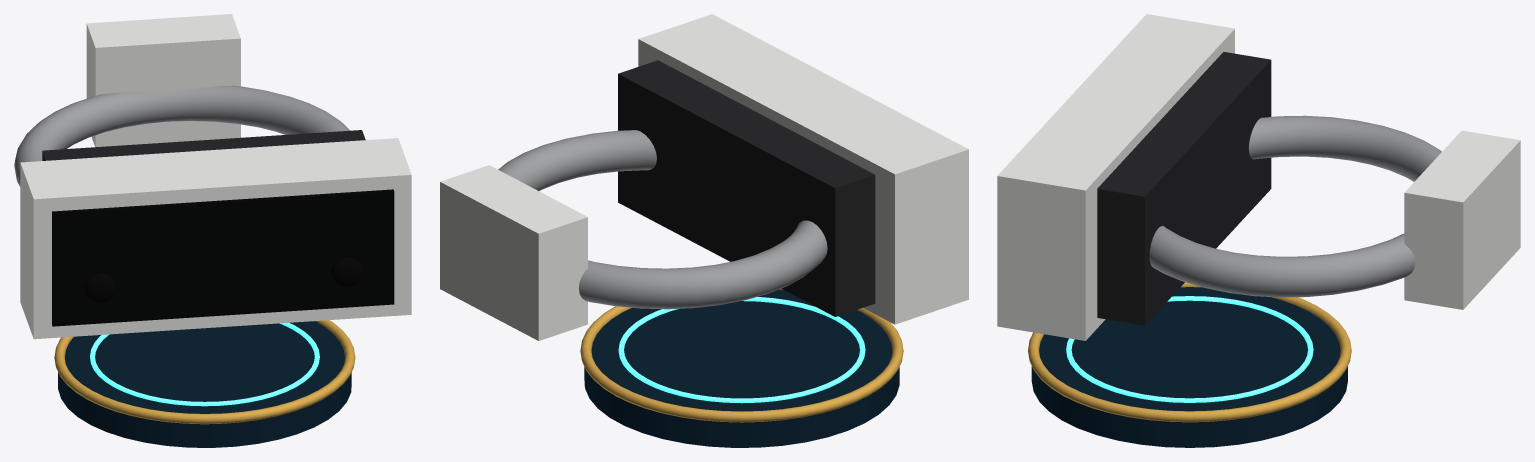
The model's file is plugin-mvmrez12-bl1i.glb.
3 renders of one model, left to right at view 1: azimuth 30°, elevation 25°; view 2: azimuth 150°, elevation 25°; view 3: azimuth 270°, elevation 25°, orthographic. The views are drawn at different scales.
Parts seen in each view (by area): view 1: part (×10); view 2: part (×7); view 3: part (×7).
Boxes of the visible parts, left/top/right/bottom form: part (×10): left=14, top=14, right=411, bottom=447; part (×7): left=440, top=14, right=968, bottom=447; part (×7): left=997, top=14, right=1520, bottom=447.
Size of the model in its own units: 0.4997 by 0.3162 by 0.5626.
